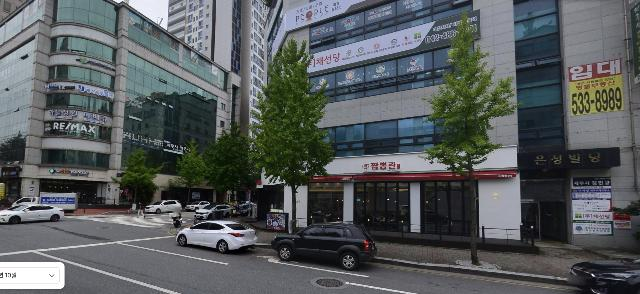other: (415, 10, 524, 266), (247, 35, 337, 234), (203, 122, 255, 213), (109, 148, 161, 215), (169, 138, 211, 208)
